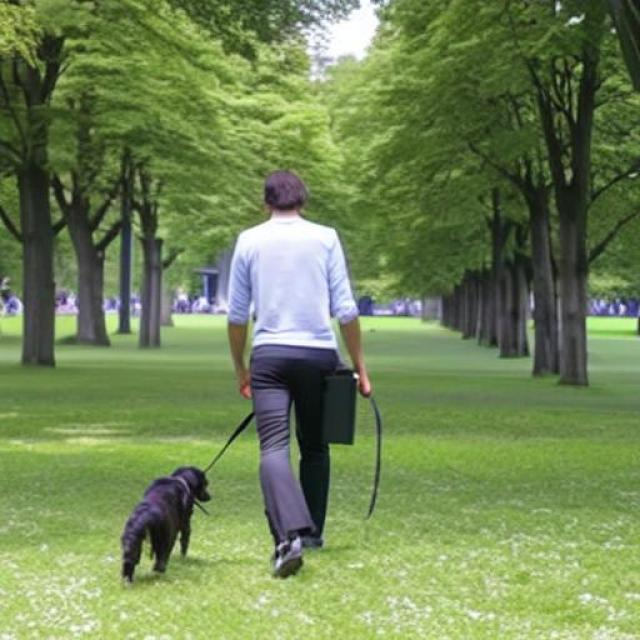Leashed_Dog: (121, 350, 340, 582)
